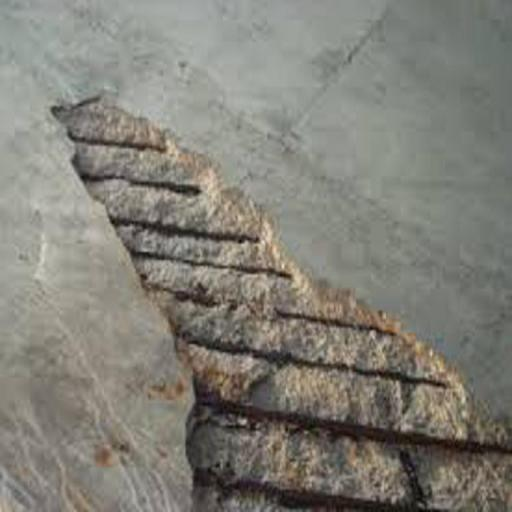spalling: (49, 96, 512, 512)
